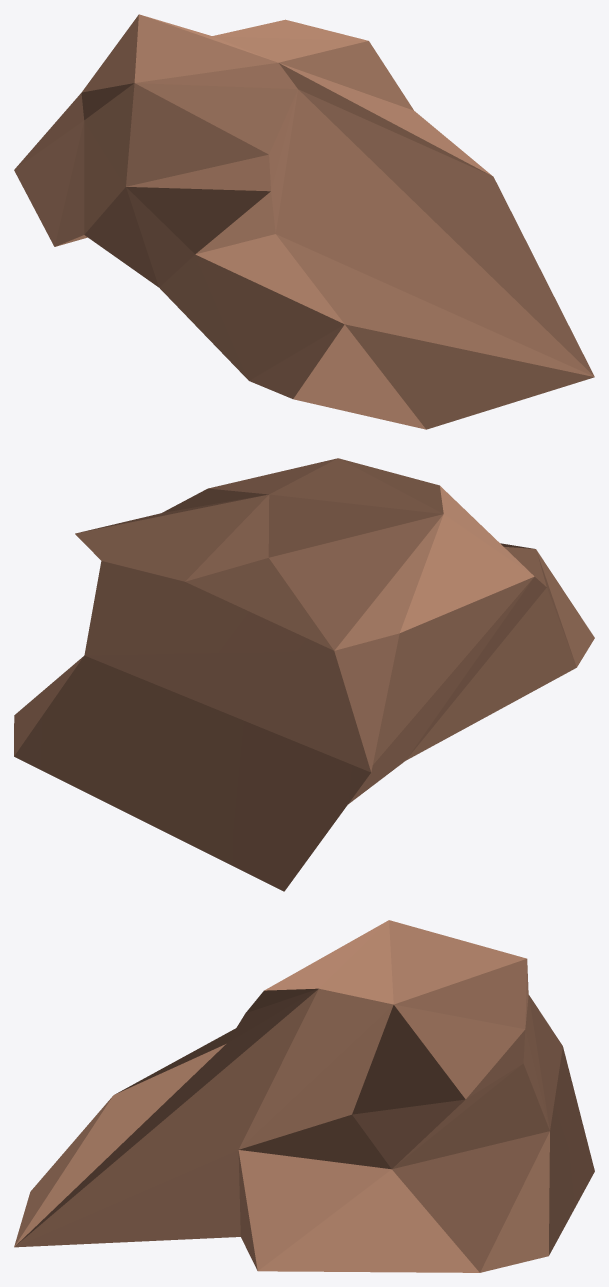
The model's file is 08 Mountain_4.FBX.
3 views of the same model, one above another, from view 1: azimuth 30°, elevation 25°; view 2: azimuth 150°, elevation 25°; view 3: azimuth 270°, elevation 25° (orthographic). The views are drawn at different scales.
Parts seen in each view (by area): view 1: Mountain_desert_006; view 2: Mountain_desert_006; view 3: Mountain_desert_006.
Part boxes in pixels (<box>): Mountain_desert_006: <box>14,14,594,429</box>; Mountain_desert_006: <box>14,458,594,891</box>; Mountain_desert_006: <box>14,920,594,1272</box>.
Size of the model in its own units: 1228 by 811 by 1791.
